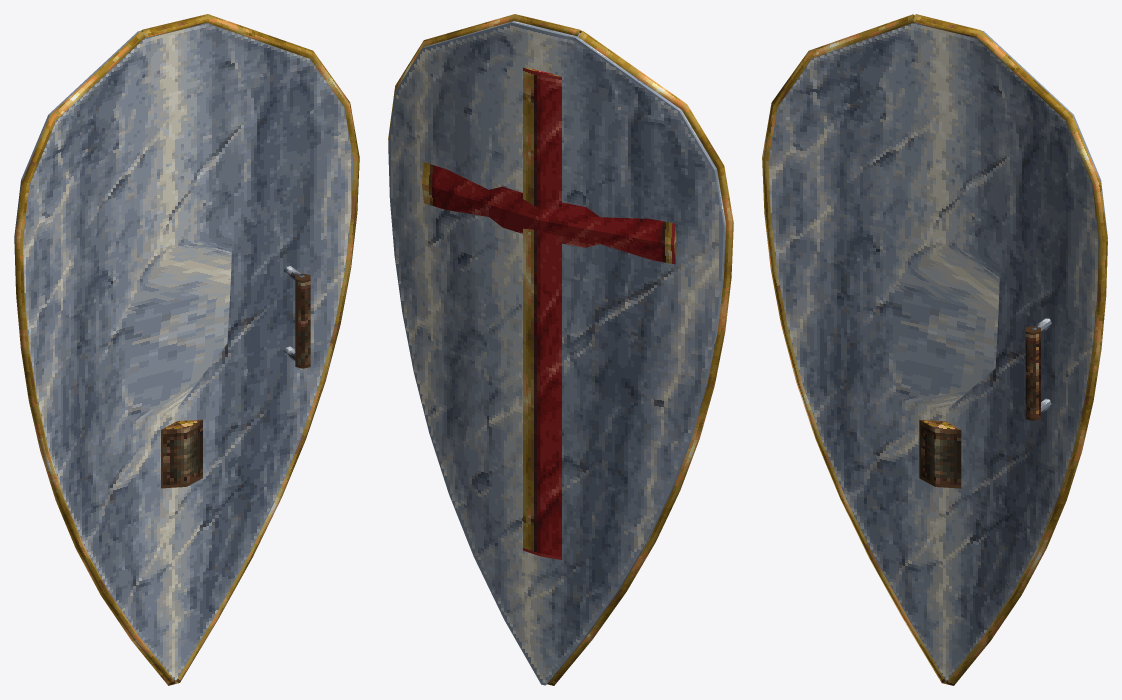
Rendered from templar_kite.glb.
3 views of the same model, side by side, from view 1: azimuth 30°, elevation 25°; view 2: azimuth 150°, elevation 25°; view 3: azimuth 330°, elevation 25° (orthographic).
Parts seen in each view (by area): view 1: templar_kite; view 2: templar_kite; view 3: templar_kite.
Boxes of the visible parts, x1,y1,x2,y2 form: templar_kite: [14, 14, 359, 685]; templar_kite: [388, 14, 733, 685]; templar_kite: [762, 14, 1107, 685].
Size of the model in its own units: 0.4939 by 0.9053 by 0.0835.
Materials: 1 (1 with a texture image).
